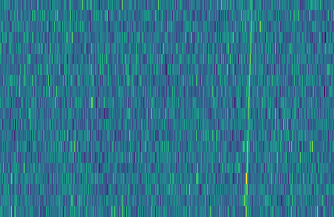signal: (242, 0, 257, 217)
